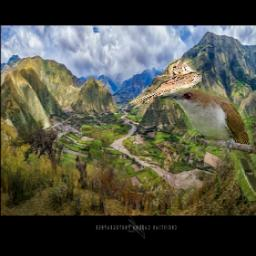Cuckoo: (158, 89, 256, 202)
Sparrow: (129, 59, 202, 105)
